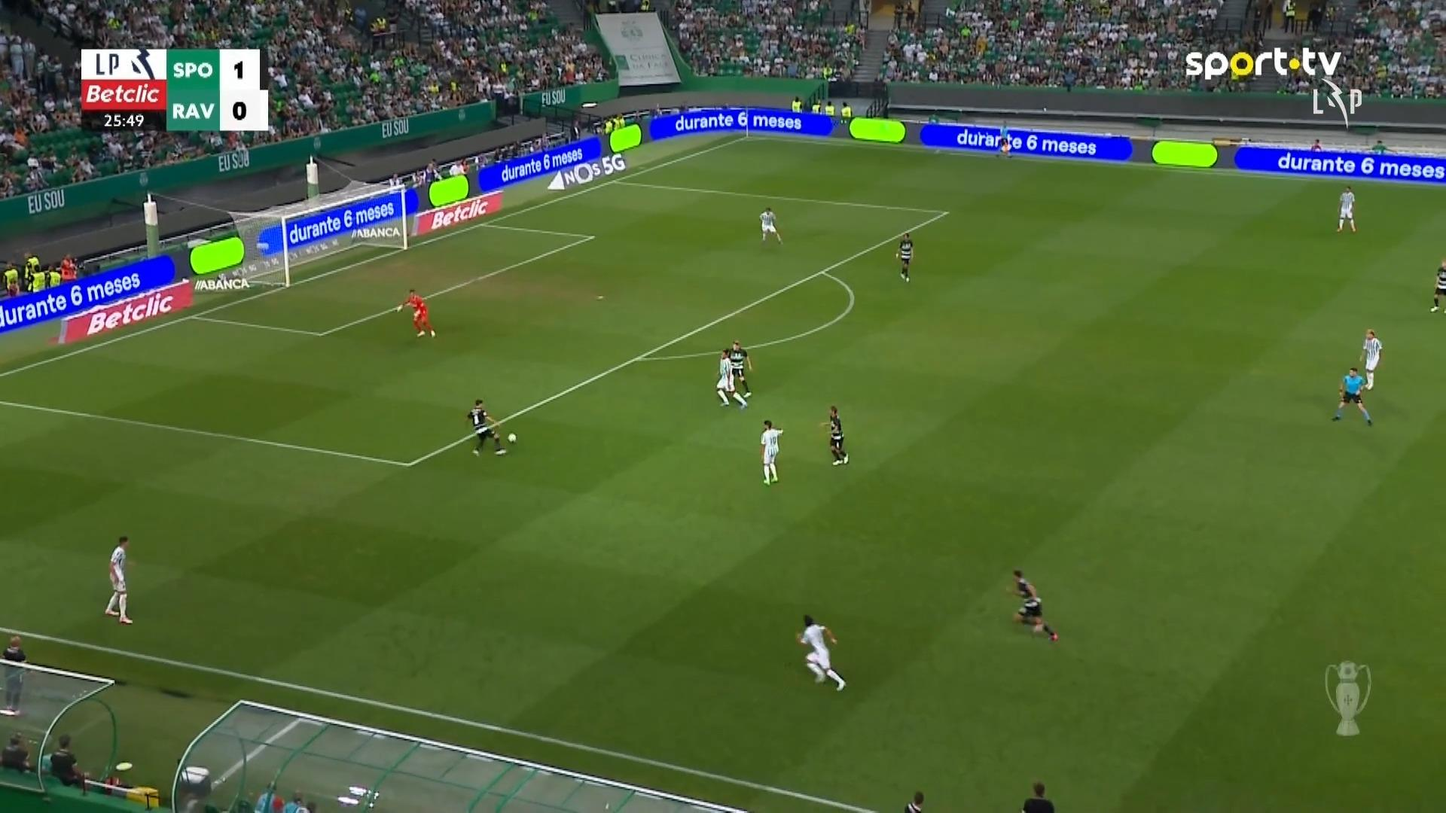ball: (507, 432, 516, 443)
goalkeeper: (396, 288, 436, 337)
player: (795, 614, 846, 691), (1005, 568, 1058, 641), (103, 534, 133, 624), (465, 398, 507, 455), (715, 348, 747, 409), (819, 404, 849, 465), (758, 419, 783, 485), (1358, 328, 1382, 390), (728, 339, 752, 399), (1336, 184, 1356, 233), (895, 231, 914, 282), (758, 206, 782, 244), (1429, 260, 1445, 312)
referee: (1331, 366, 1372, 425), (995, 121, 1013, 158)
